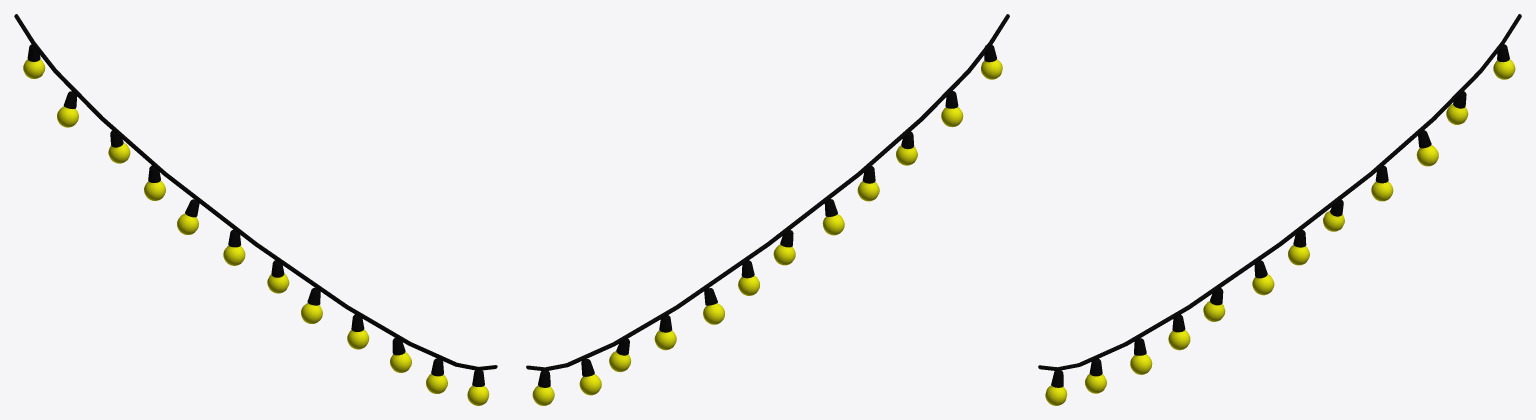
The model's file is StringLights_6-5-22.fbx.
3 renders of one model, left to right at view 1: azimuth 30°, elevation 25°; view 2: azimuth 150°, elevation 25°; view 3: azimuth 330°, elevation 25°, orthographic.
Visible parts, largest first — view 1: lightString; view 2: lightString; view 3: lightString.
Boxes of the visible parts, <box> form: lightString: <box>14,14,497,370</box>; lightString: <box>526,14,1009,371</box>; lightString: <box>1038,14,1521,371</box>.
Size of the model in its own units: 16.79 by 45.36 by 438.
